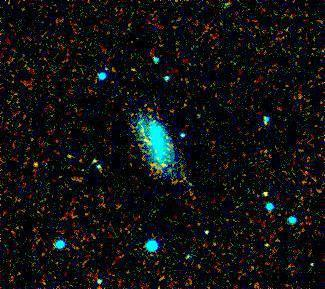star: (19, 150, 49, 180)
